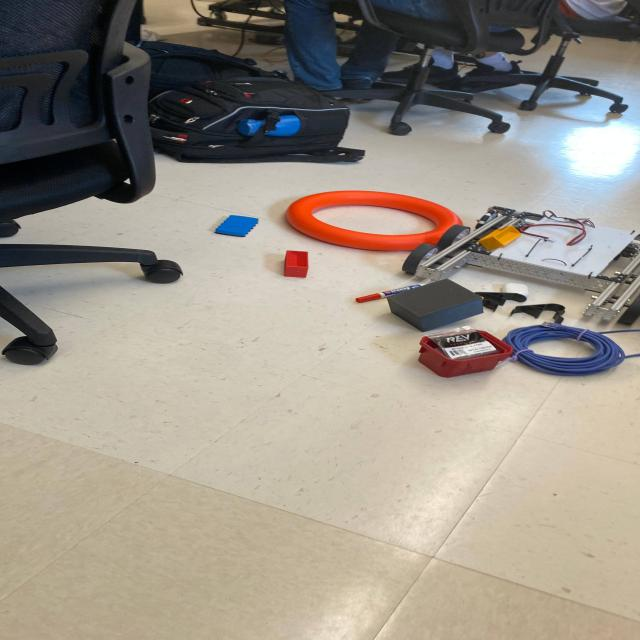red-specimen: (284, 251, 308, 278)
yellow-specimen: (478, 225, 521, 251)
